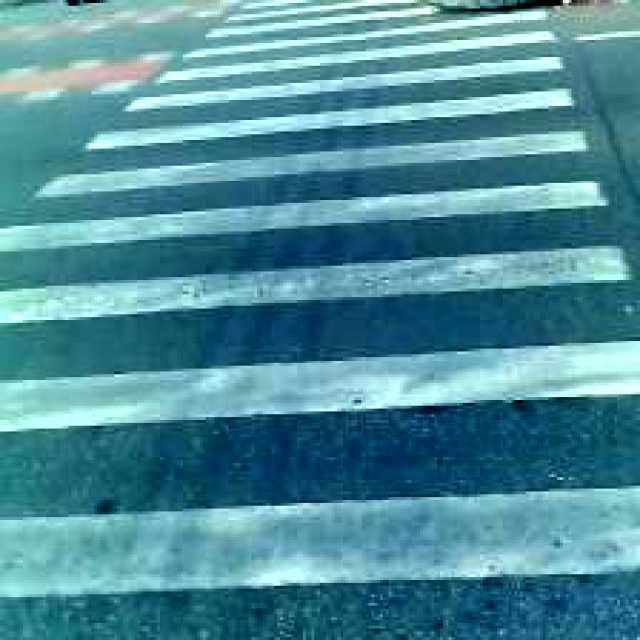crosswalk: (3, 2, 635, 638)
